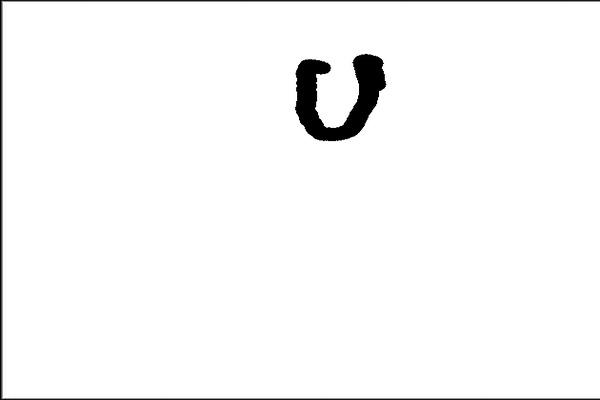U: (286, 54, 396, 146)
